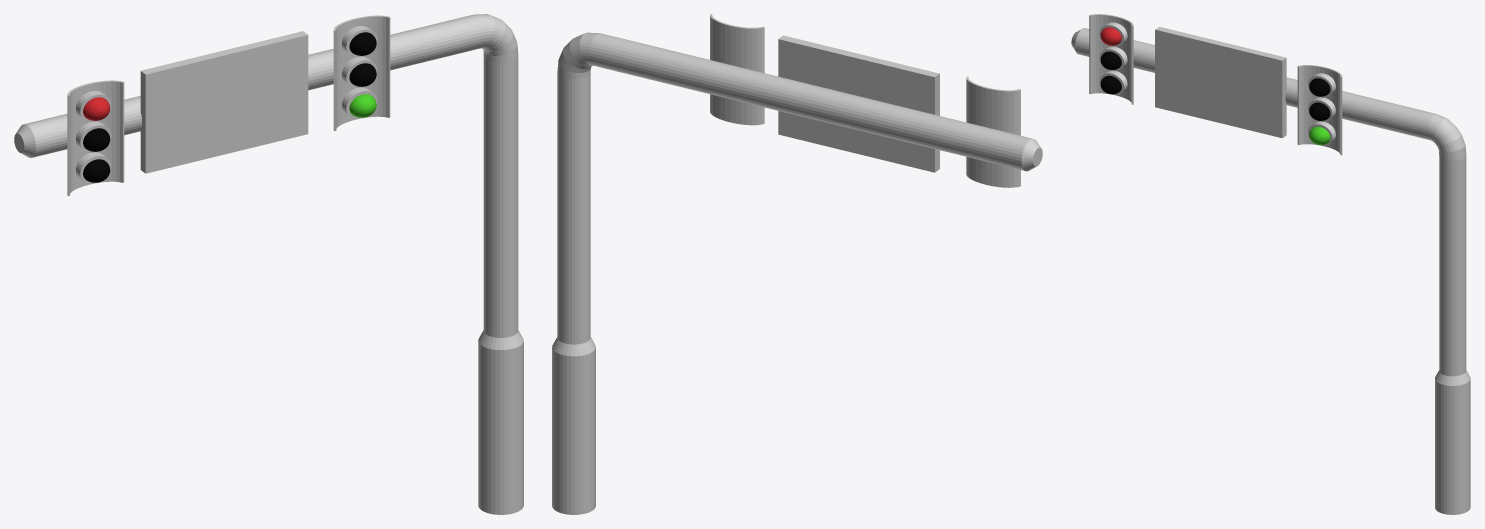
File: semaforo1.dae
The picture shows the model from 3 angles, left to right: view 1: azimuth 30°, elevation 25°; view 2: azimuth 150°, elevation 25°; view 3: azimuth 330°, elevation 25°; orthographic projection. The views are drawn at different scales.
Parts seen in each view (by area): view 1: Sphere, Sphere_001; view 2: Sphere; view 3: Sphere, Sphere_001.
Boxes of the visible parts, box(x1,y1,x2,y2) form: Sphere: box(14, 14, 523, 514); Sphere_001: box(145, 35, 308, 173); Sphere: box(552, 14, 1042, 514); Sphere: box(1071, 14, 1470, 514); Sphere_001: box(1155, 29, 1282, 137).
Size of the model in its own units: 114 by 13.12 by 115.
